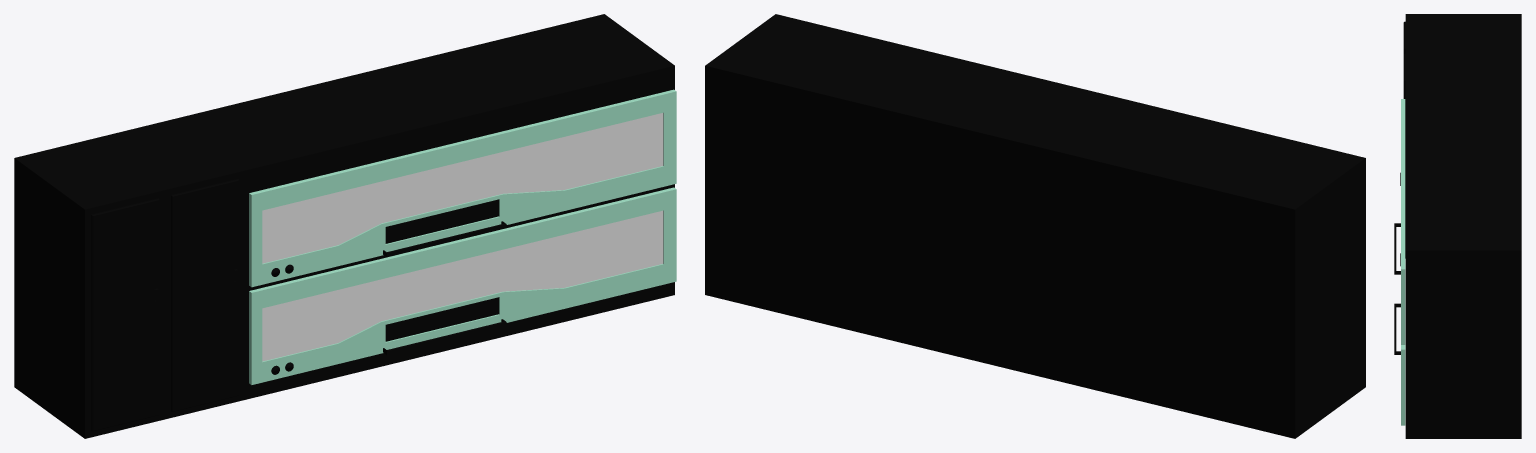
Rendered from bed_M.fbx.
3 renders of one model, left to right at view 1: azimuth 30°, elevation 25°; view 2: azimuth 150°, elevation 25°; view 3: azimuth 270°, elevation 25°, orthographic. The views are drawn at different scales.
Visible parts, largest first — view 1: bed, bed.003, bed.005, bed.002; view 2: bed; view 3: bed, bed.005, bed.002.
Part boxes in pixels (x1,y1,x2,y2): bed: [14, 14, 674, 438]; bed.003: [262, 113, 663, 361]; bed.005: [249, 89, 676, 384]; bed.002: [383, 199, 506, 354]; bed: [705, 14, 1365, 438]; bed: [1403, 14, 1521, 438]; bed.005: [1401, 99, 1405, 425]; bed.002: [1394, 223, 1400, 354].
Size of the model in its own units: 668 by 248 by 152.
